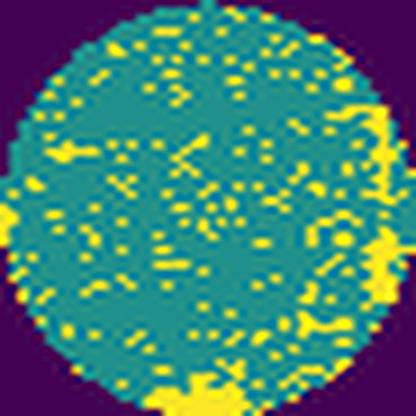Edge-Loc: (134, 361, 265, 416)
